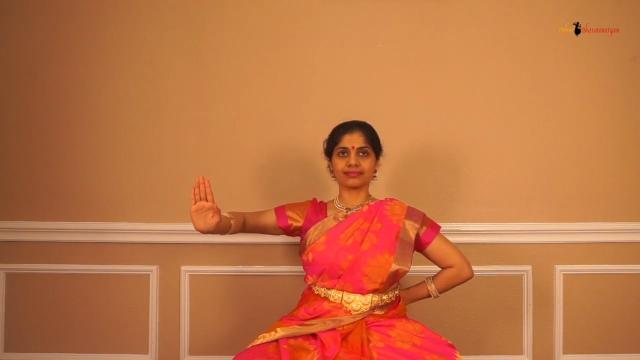pataka: (172, 162, 228, 248)
